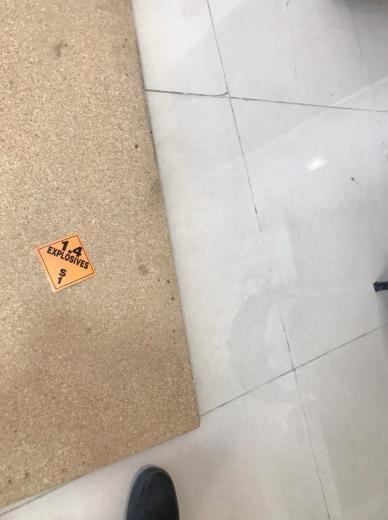explosive: (36, 234, 94, 292)
